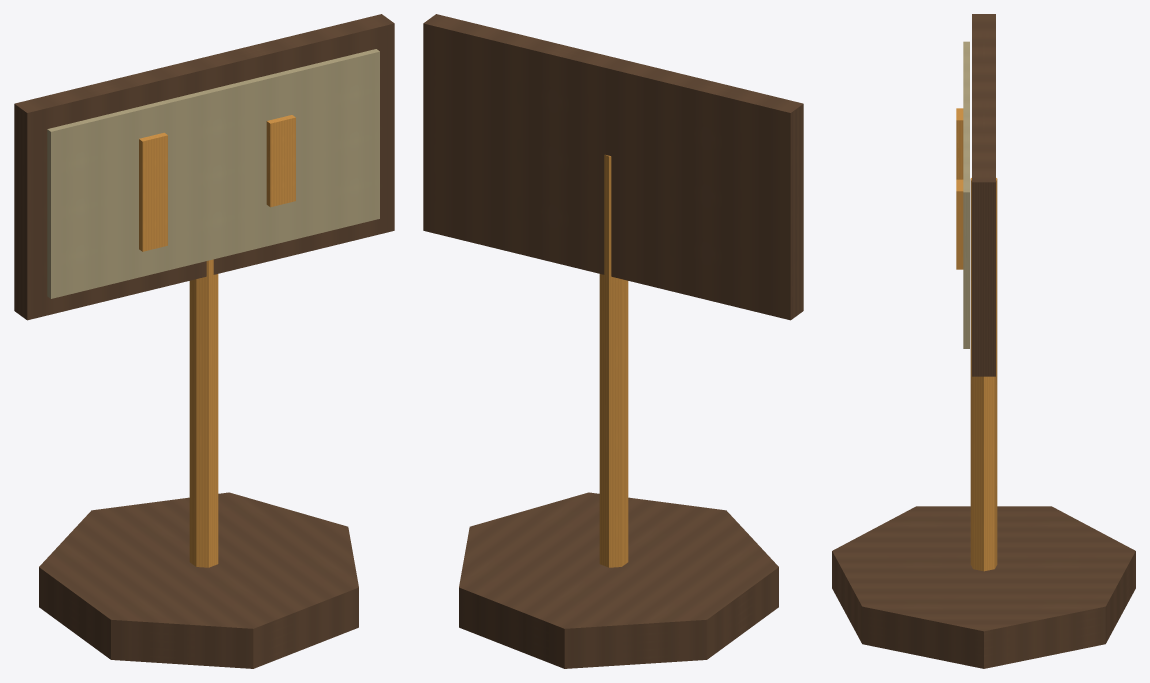
File: atlas100-s011-a11.lod1.glb
3 views of the same model, side by side, from view 1: azimuth 30°, elevation 25°; view 2: azimuth 150°, elevation 25°; view 3: azimuth 270°, elevation 25° (orthographic). The views are drawn at different scales.
Visible parts, largest first — view 1: atlas100-s011-a11:part-003, atlas100-s011-a11:part-000, atlas100-s011-a11:part-002, atlas100-s011-a11:part-001, atlas100-s011-a11:part-004, atlas100-s011-a11:part-006; view 2: atlas100-s011-a11:part-002, atlas100-s011-a11:part-000, atlas100-s011-a11:part-001; view 3: atlas100-s011-a11:part-000, atlas100-s011-a11:part-002, atlas100-s011-a11:part-001, atlas100-s011-a11:part-003, atlas100-s011-a11:part-006, atlas100-s011-a11:part-004.
Boxes of the visible parts, <box> form: atlas100-s011-a11:part-003: <box>47,49,379,298</box>; atlas100-s011-a11:part-000: <box>39,492,358,668</box>; atlas100-s011-a11:part-002: <box>14,14,394,320</box>; atlas100-s011-a11:part-001: <box>189,259,218,567</box>; atlas100-s011-a11:part-004: <box>139,132,167,251</box>; atlas100-s011-a11:part-006: <box>266,115,295,207</box>; atlas100-s011-a11:part-002: <box>423,14,803,320</box>; atlas100-s011-a11:part-000: <box>459,492,778,668</box>; atlas100-s011-a11:part-001: <box>599,154,628,567</box>; atlas100-s011-a11:part-000: <box>832,506,1135,668</box>; atlas100-s011-a11:part-002: <box>972,14,995,376</box>; atlas100-s011-a11:part-001: <box>970,178,997,571</box>; atlas100-s011-a11:part-003: <box>963,41,969,348</box>; atlas100-s011-a11:part-006: <box>956,179,963,269</box>; atlas100-s011-a11:part-004: <box>956,108,963,179</box>.
Size of the model in its own units: 1.15 by 1.61 by 0.8774.
Materials: 3 (3 with a texture image).
